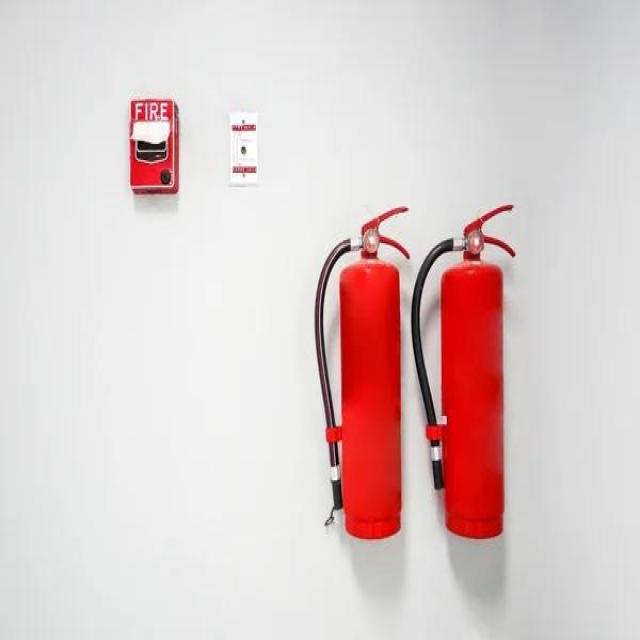fire_extinguisher: (407, 198, 517, 543), (310, 199, 413, 545)
